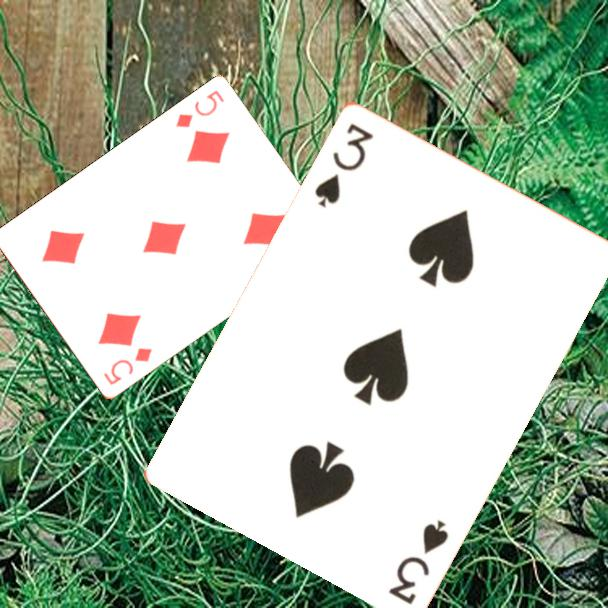d05: (100, 344, 155, 389), (172, 87, 227, 131)
s03: (384, 515, 452, 607), (310, 119, 376, 211)
